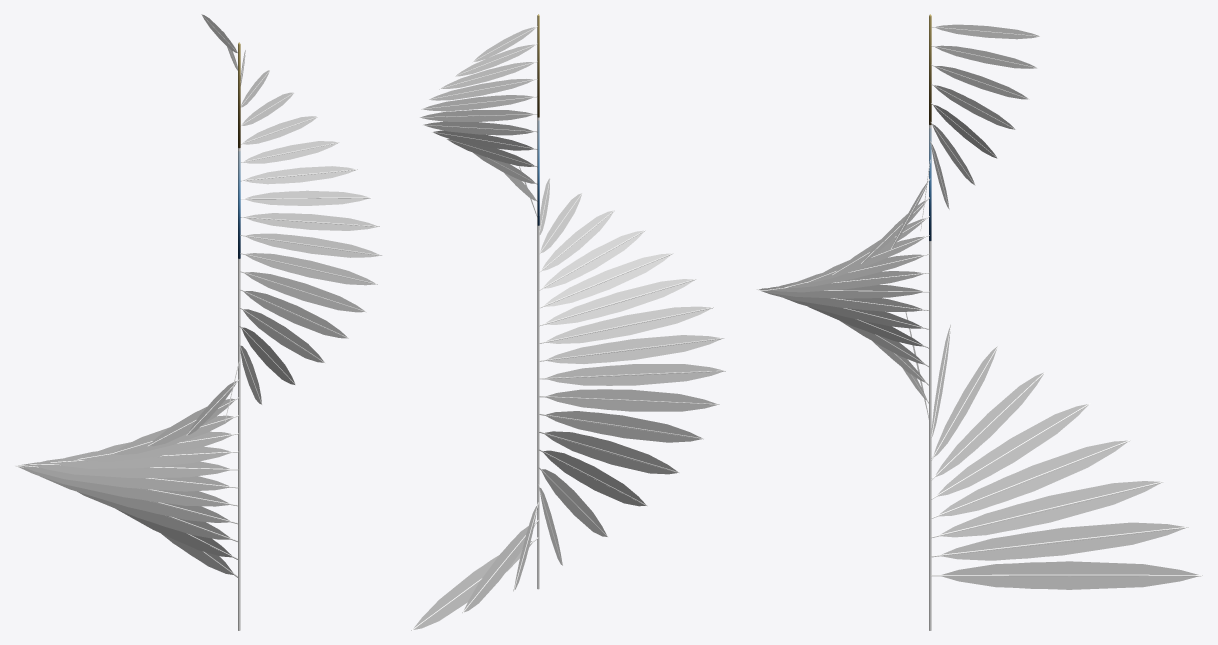
File: SM_Plant_08.FBX
The picture shows the model from 3 angles, left to right: view 1: azimuth 30°, elevation 25°; view 2: azimuth 150°, elevation 25°; view 3: azimuth 270°, elevation 25°; orthographic projection. The views are drawn at different scales.
Visible parts, largest first — view 1: plant2; view 2: plant2; view 3: plant2.
Boxes of the visible parts, x1,y1,x2,y2 form: plant2: (15, 14, 381, 630); plant2: (411, 14, 726, 630); plant2: (756, 14, 1202, 630).
Size of the model in its own units: 54.59 by 104 by 68.73.
